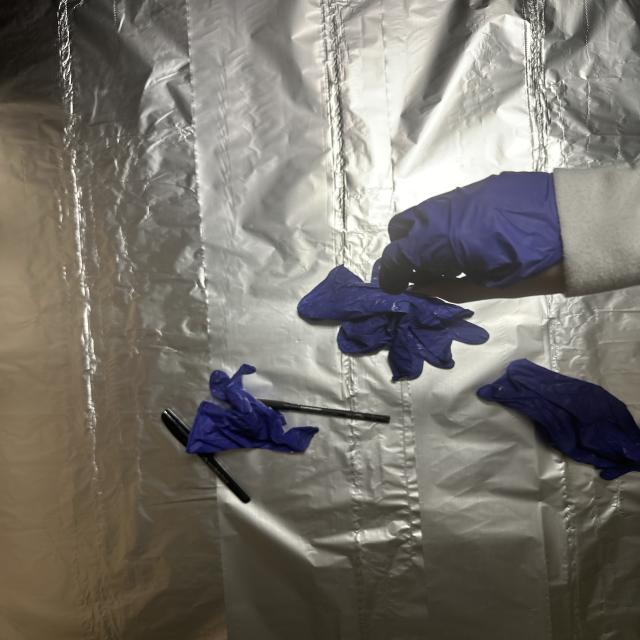glove_partial: (363, 163, 604, 331)
